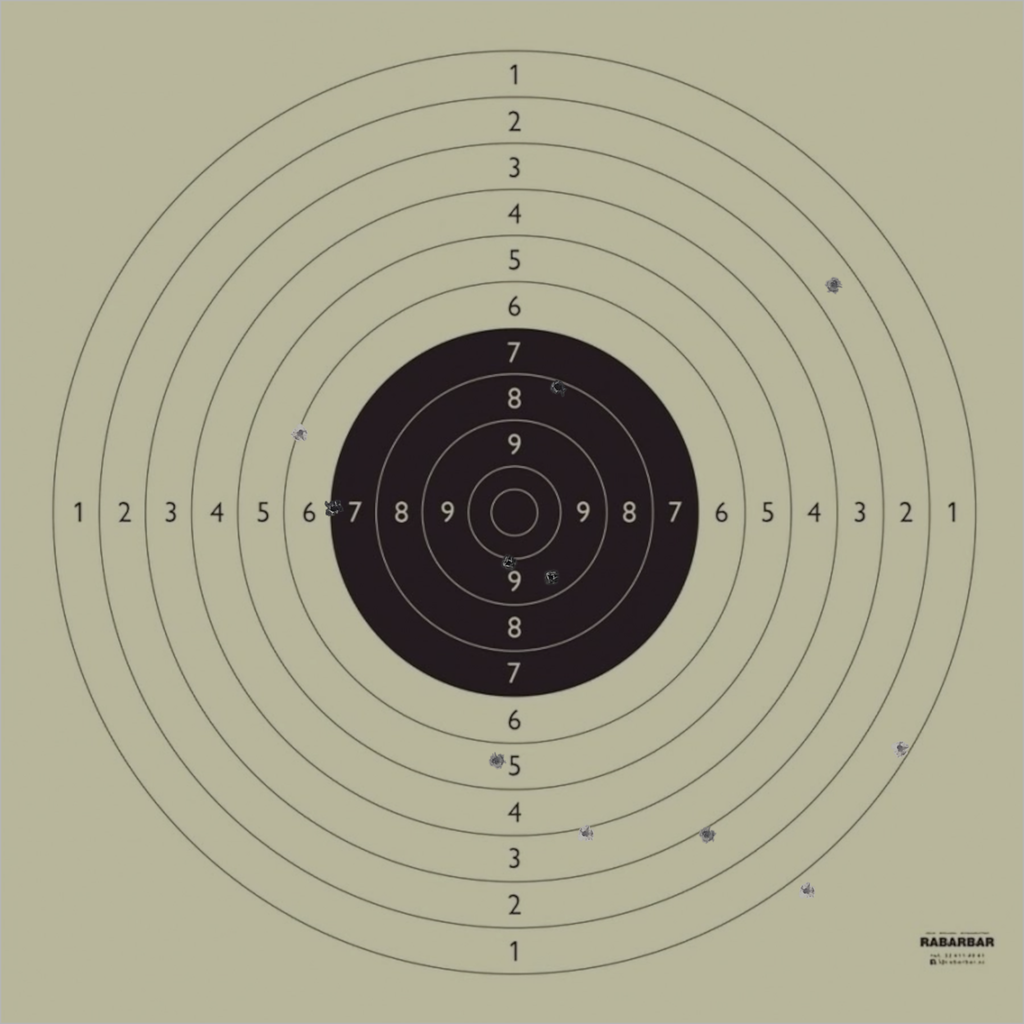0 punktow: (797, 882, 816, 900)
1 punkt: (891, 739, 910, 758)
10 punktow: (499, 554, 518, 572)
2 punkty: (825, 275, 843, 294)
3 punkty: (698, 825, 716, 844)
4 punkty: (576, 824, 595, 843)
5 punktow: (487, 751, 506, 770)
6 punktow: (291, 424, 310, 443)
7 punktow: (325, 499, 344, 518)
8 punktow: (549, 378, 567, 397)
9 punktow: (542, 568, 560, 586)
